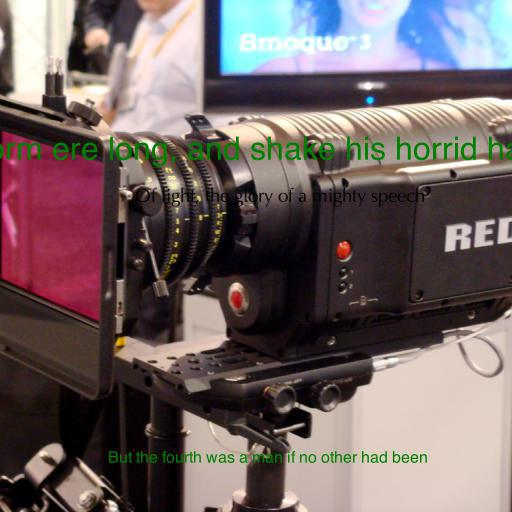Impact: (0, 136, 512, 167), (108, 451, 428, 463)
Optima: (135, 187, 425, 207)
